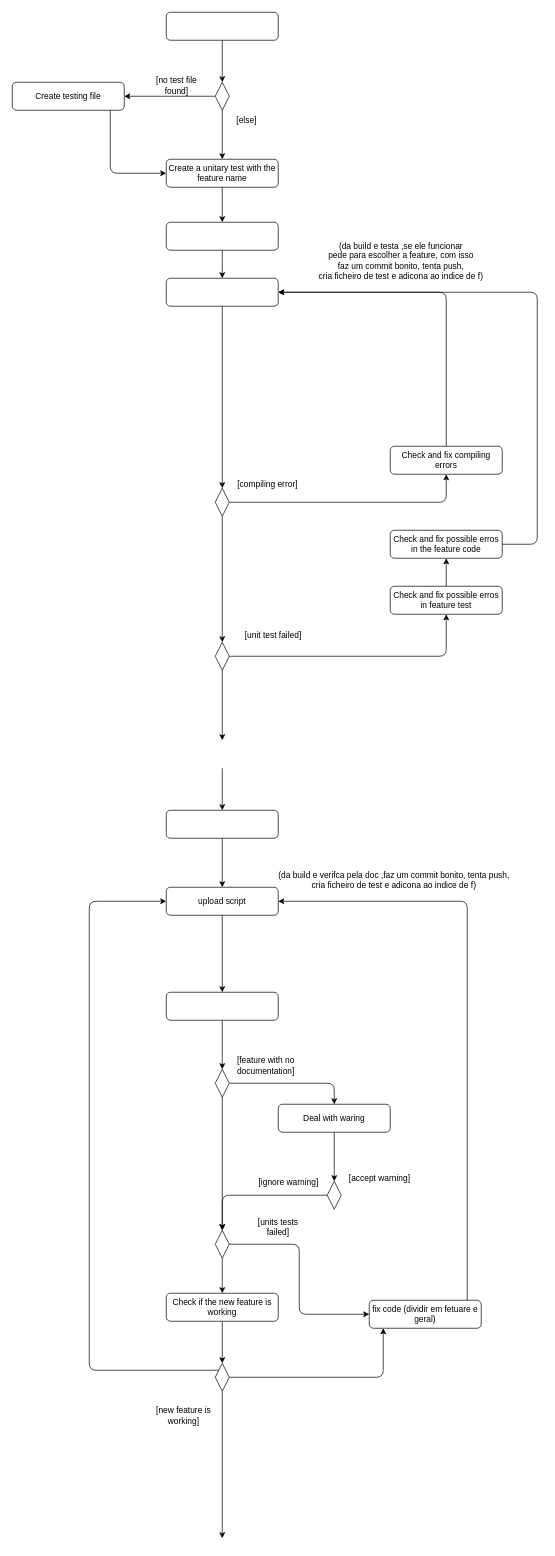
This 555x1556 diagram has some shape labels left out. The shapes that lost their labels are listed below. From the top down, each one's centre as x and y in pixels, then its label:
At (222,26): "Go to feature test file".
At (222,236): "Fill the test".
At (222,292): "Call test feature".
At (222,824): "Add feature to main code".
At (222,1006): "add compile error here".
